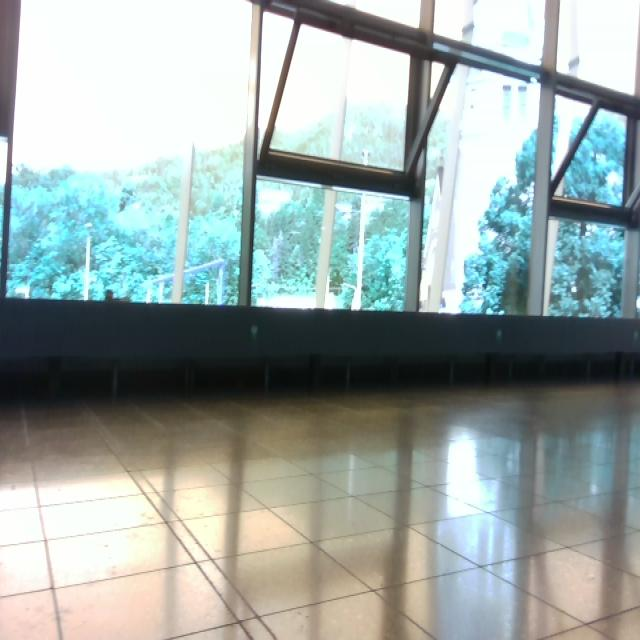light bulb: (447, 435, 477, 487)
tiled floor: (2, 383, 639, 639)
window: (1, 1, 640, 321)
